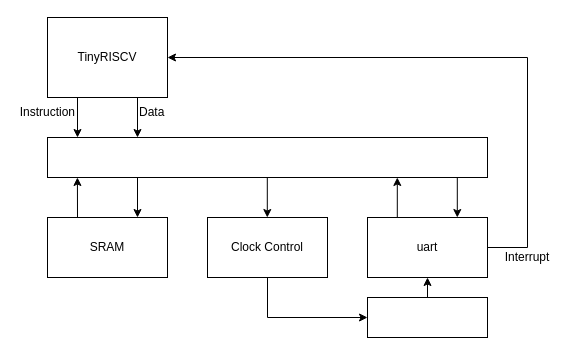
Some shapes in this 574 by 355 pixel diagram are drawn without their labels. The centre of each missing label's shape, as x and y in pixels:
"Bus" goes at point (267, 157).
"Clock Buffer" goes at point (427, 317).
